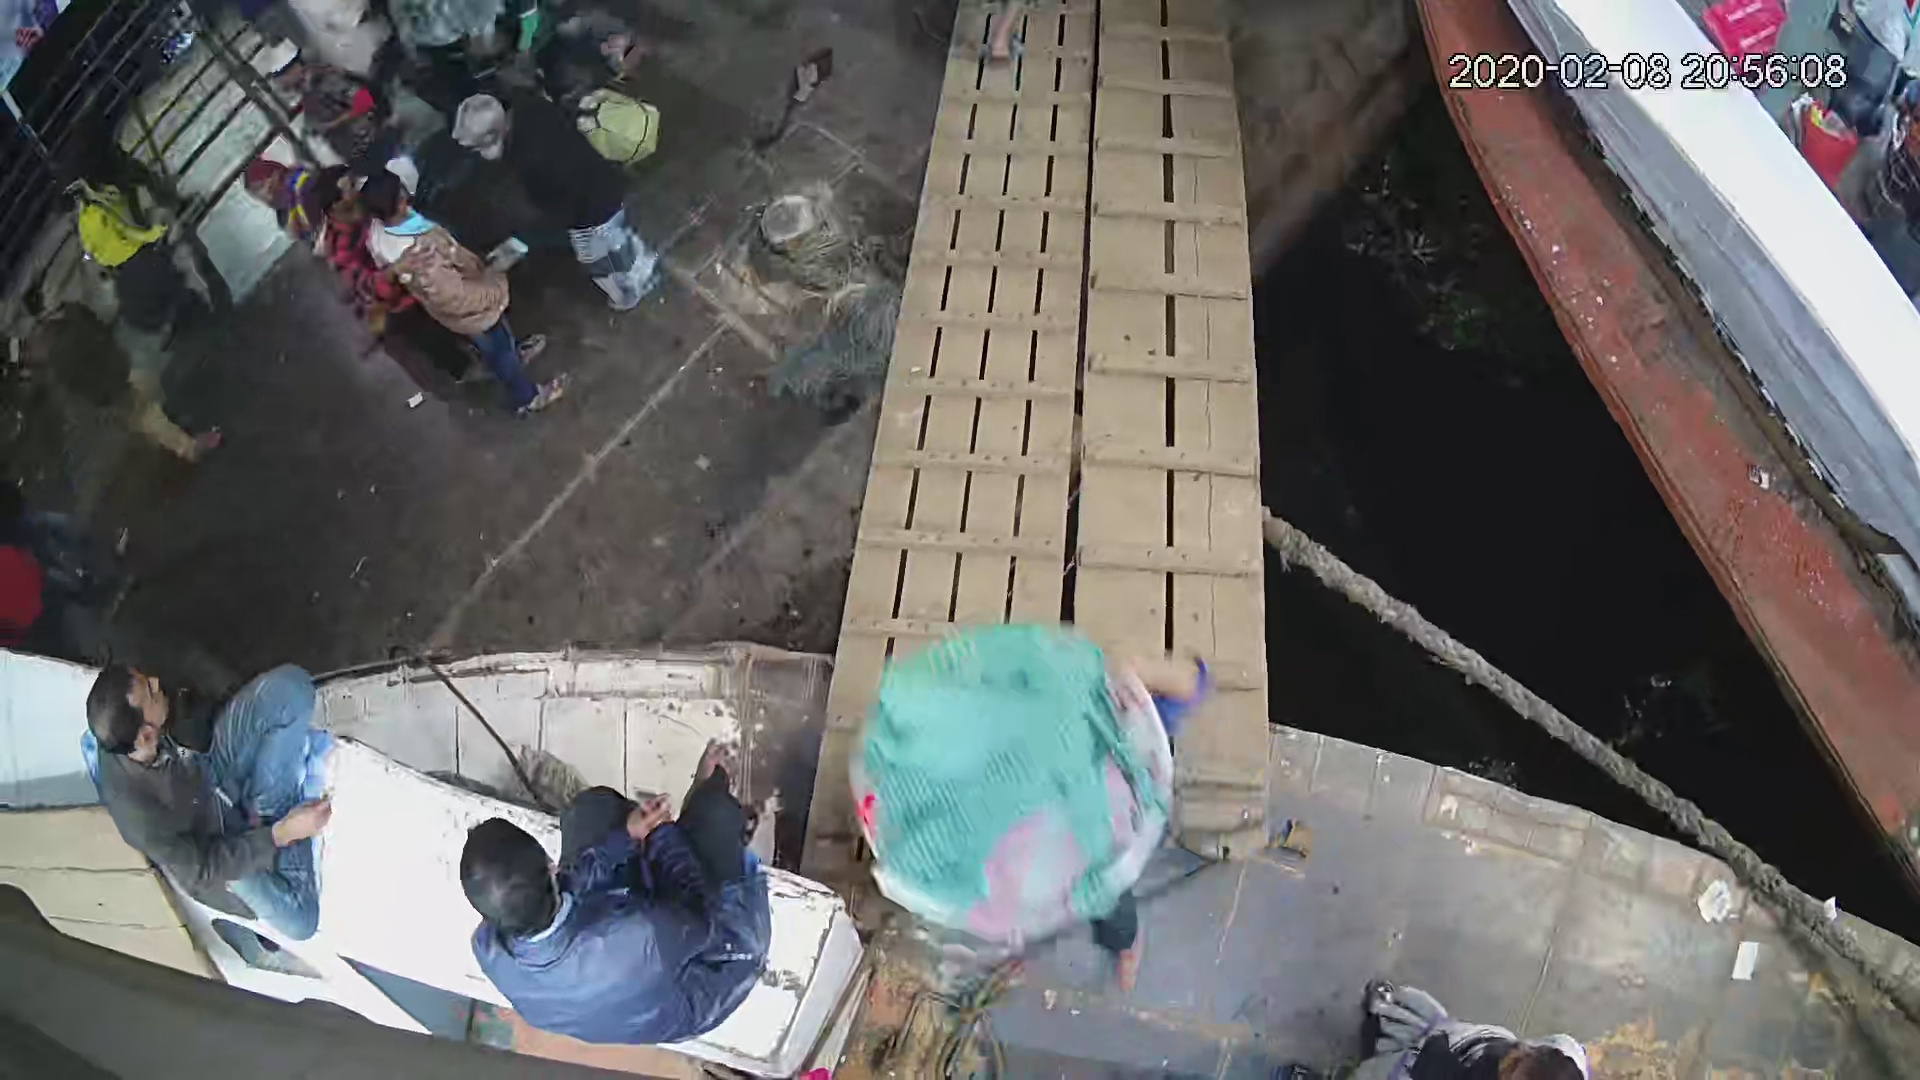person: (840, 619, 1241, 979), (451, 739, 786, 1053), (78, 650, 331, 943), (363, 175, 577, 416), (454, 102, 667, 316), (20, 275, 220, 457), (1273, 975, 1599, 1080), (55, 138, 202, 321)
